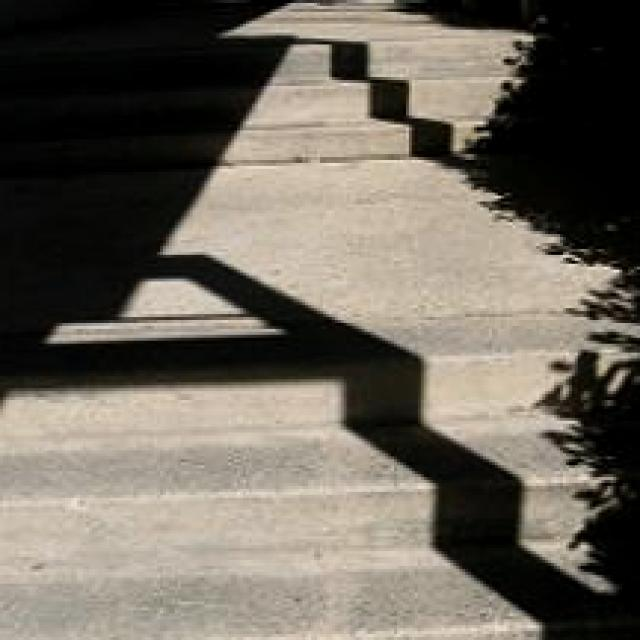upstair: (42, 333, 573, 640)
